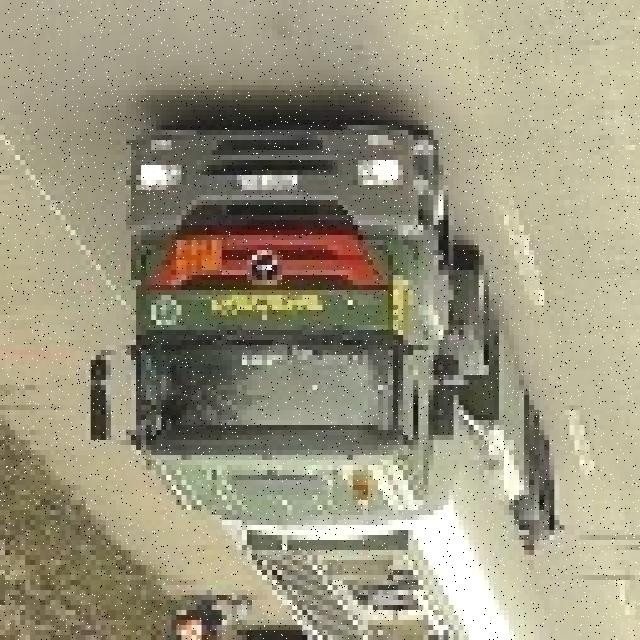truck: (90, 115, 564, 640)
